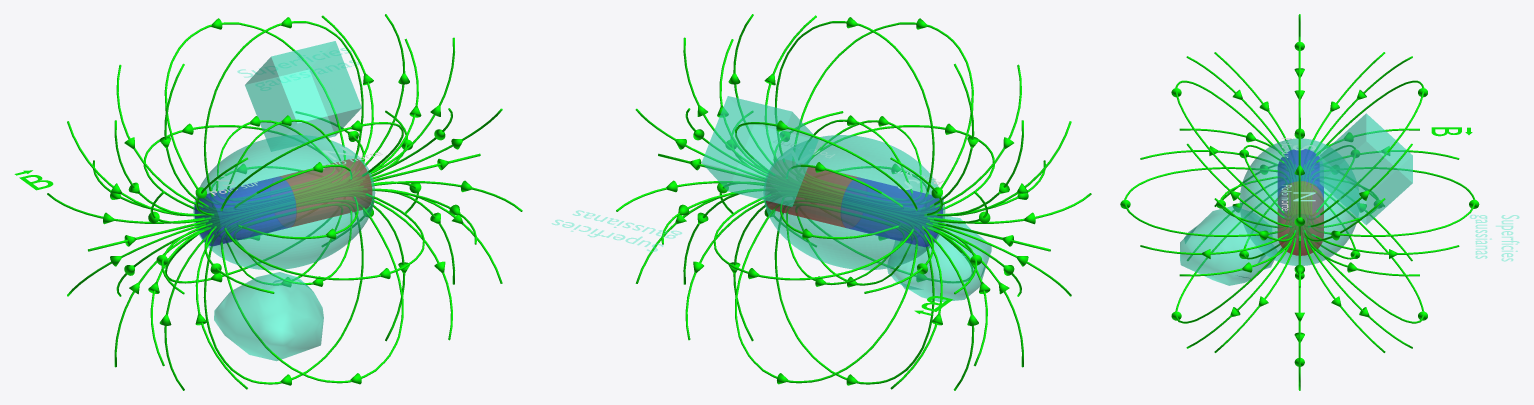
Rendered from iman superficies.dae.
3 renders of one model, left to right at view 1: azimuth 30°, elevation 25°; view 2: azimuth 150°, elevation 25°; view 3: azimuth 270°, elevation 25°, orthographic. The views are drawn at different scales.
Visible parts, largest first — view 1: Superficie-principal, Superficie-cubica, Barra-iman, recto-8, Superficie-irregular, diagonal-8, recto-7, diagonal-4, diagonal-6, recto-4, recto-5, recto-6 (+2 smaller); view 2: Superficie-principal, Superficie-cubica, recto-8, Barra-iman, diagonal-8, Superficie-irregular, diagonal-4, recto-7, diagonal-6, recto-4, recto-5, recto-6 (+3 smaller); view 3: Superficie-principal, Superficie-cubica, diagonal-8, Superficie-irregular, Barra-iman, recto-8, diagonal-5, diagonal-7, recto-6, diagonal-6, recto-5, diagonal-4 (+3 smaller).
Boxes of the visible parts, x1,y1,x2,y2 form: Superficie-principal: (193,135,375,270); Superficie-cubica: (245,41,361,151); Barra-iman: (194,159,372,246); recto-8: (88,17,480,385); Superficie-irregular: (214,272,323,360); diagonal-8: (164,18,403,384); recto-7: (47,120,212,367); diagonal-4: (67,121,211,366); diagonal-6: (116,64,247,389); recto-4: (92,63,274,390); recto-5: (295,14,476,341); recto-6: (369,37,522,284); Superficie-principal: (763,135,945,270); Superficie-cubica: (701,96,818,206); recto-8: (658,17,1050,385); Barra-iman: (766,167,942,246); diagonal-8: (735,18,973,384); Superficie-irregular: (887,216,991,301); diagonal-4: (926,121,1071,366); recto-7: (925,120,1091,367); diagonal-6: (890,64,1021,389); recto-4: (864,63,1045,390); recto-5: (661,14,843,341); recto-6: (616,37,767,284); Superficie-principal: (1239,138,1359,265); Superficie-cubica: (1319,113,1412,224); diagonal-8: (1171,80,1427,323); Superficie-irregular: (1180,206,1277,285); Barra-iman: (1277,148,1323,255); recto-8: (1120,36,1479,366); diagonal-5: (1186,143,1412,348); diagonal-7: (1214,198,1385,352); recto-6: (1179,166,1419,384); diagonal-6: (1186,56,1412,261); recto-5: (1140,101,1459,390); diagonal-4: (1214,52,1385,206).
Size of the model in its own units: 12.14 by 12.12 by 10.89.
